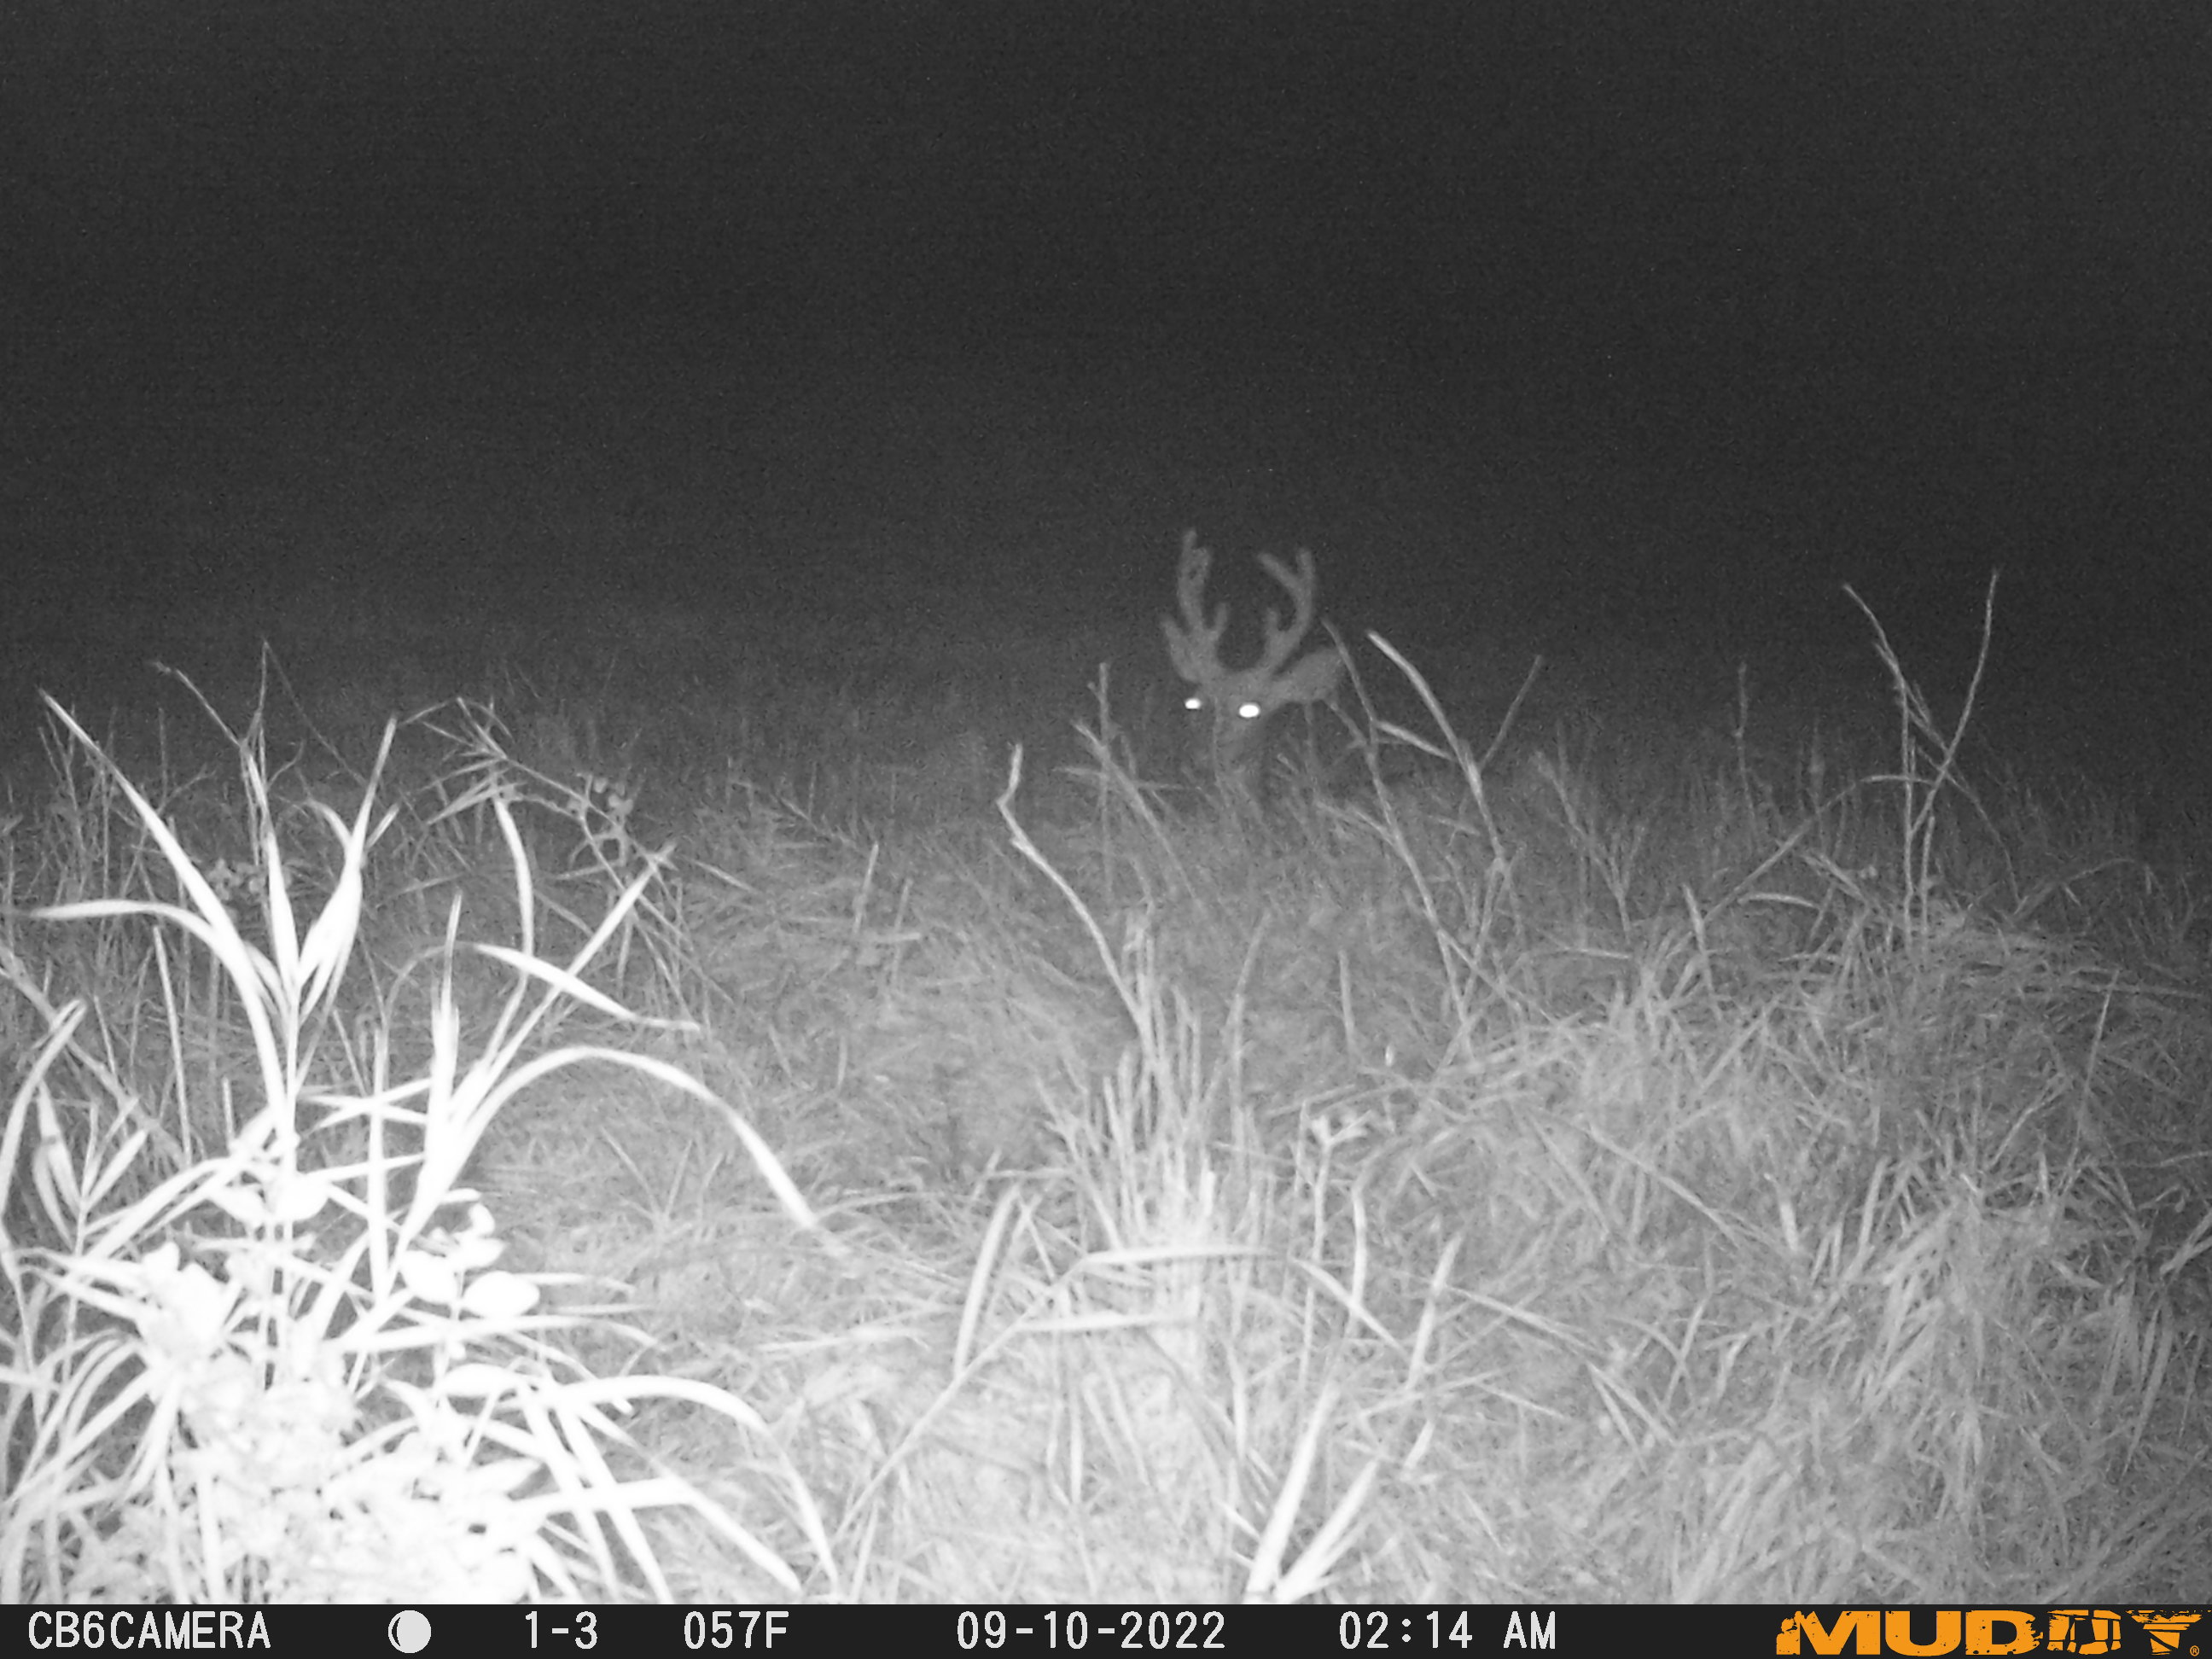DeerBuck: (1155, 526, 1353, 795)
DeerBuckHead: (1159, 521, 1342, 781)
